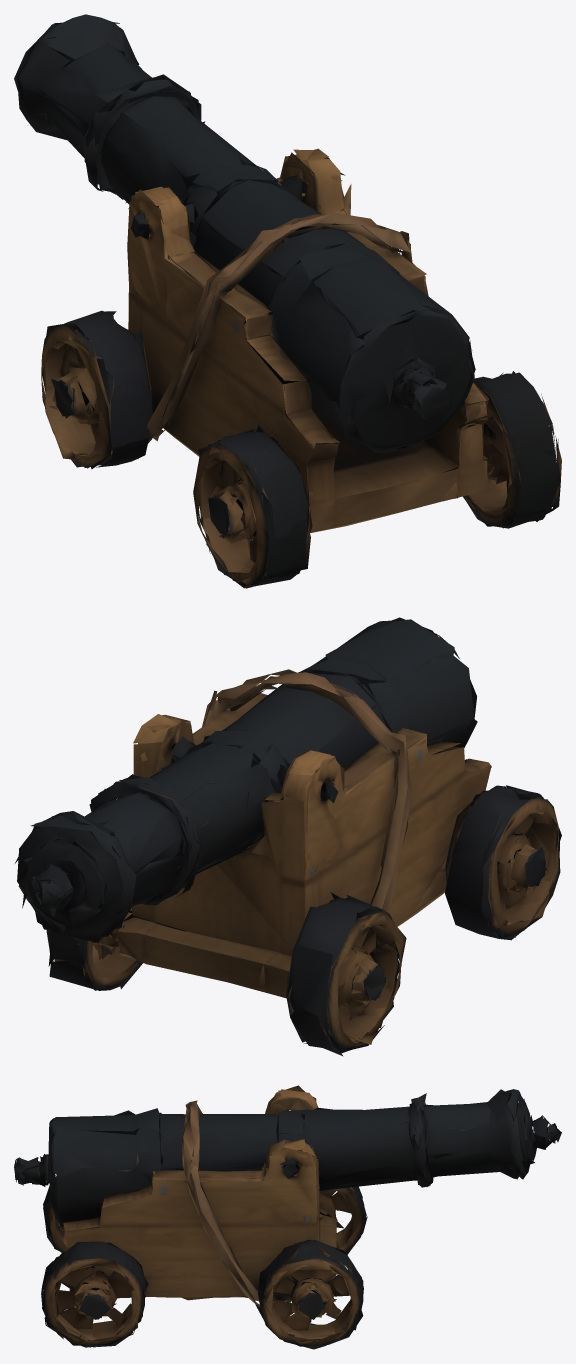
The model's file is prop_cannon.glb.
3 views of the same model, one above another, from view 1: azimuth 30°, elevation 25°; view 2: azimuth 150°, elevation 25°; view 3: azimuth 270°, elevation 25° (orthographic). The views are drawn at different scales.
Visible parts, largest first — view 1: Mesh_0; view 2: Mesh_0; view 3: Mesh_0.
Boxes of the visible parts, <box> form: Mesh_0: <box>14,14,561,588</box>; Mesh_0: <box>15,617,561,1056</box>; Mesh_0: <box>14,1085,561,1349</box>.
Bounding box in the file's own units: 1.48 × 1.38 × 3.2.
Materials: 1 (1 with a texture image).
